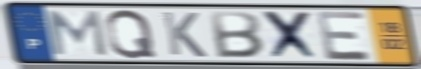B: (208, 10, 266, 60)
E: (314, 9, 375, 62)
K: (159, 10, 209, 59)
M: (45, 9, 111, 58)
Q: (104, 8, 159, 60)
X: (260, 9, 323, 62)
